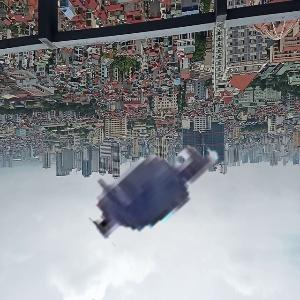drone: (43, 90, 251, 298)
